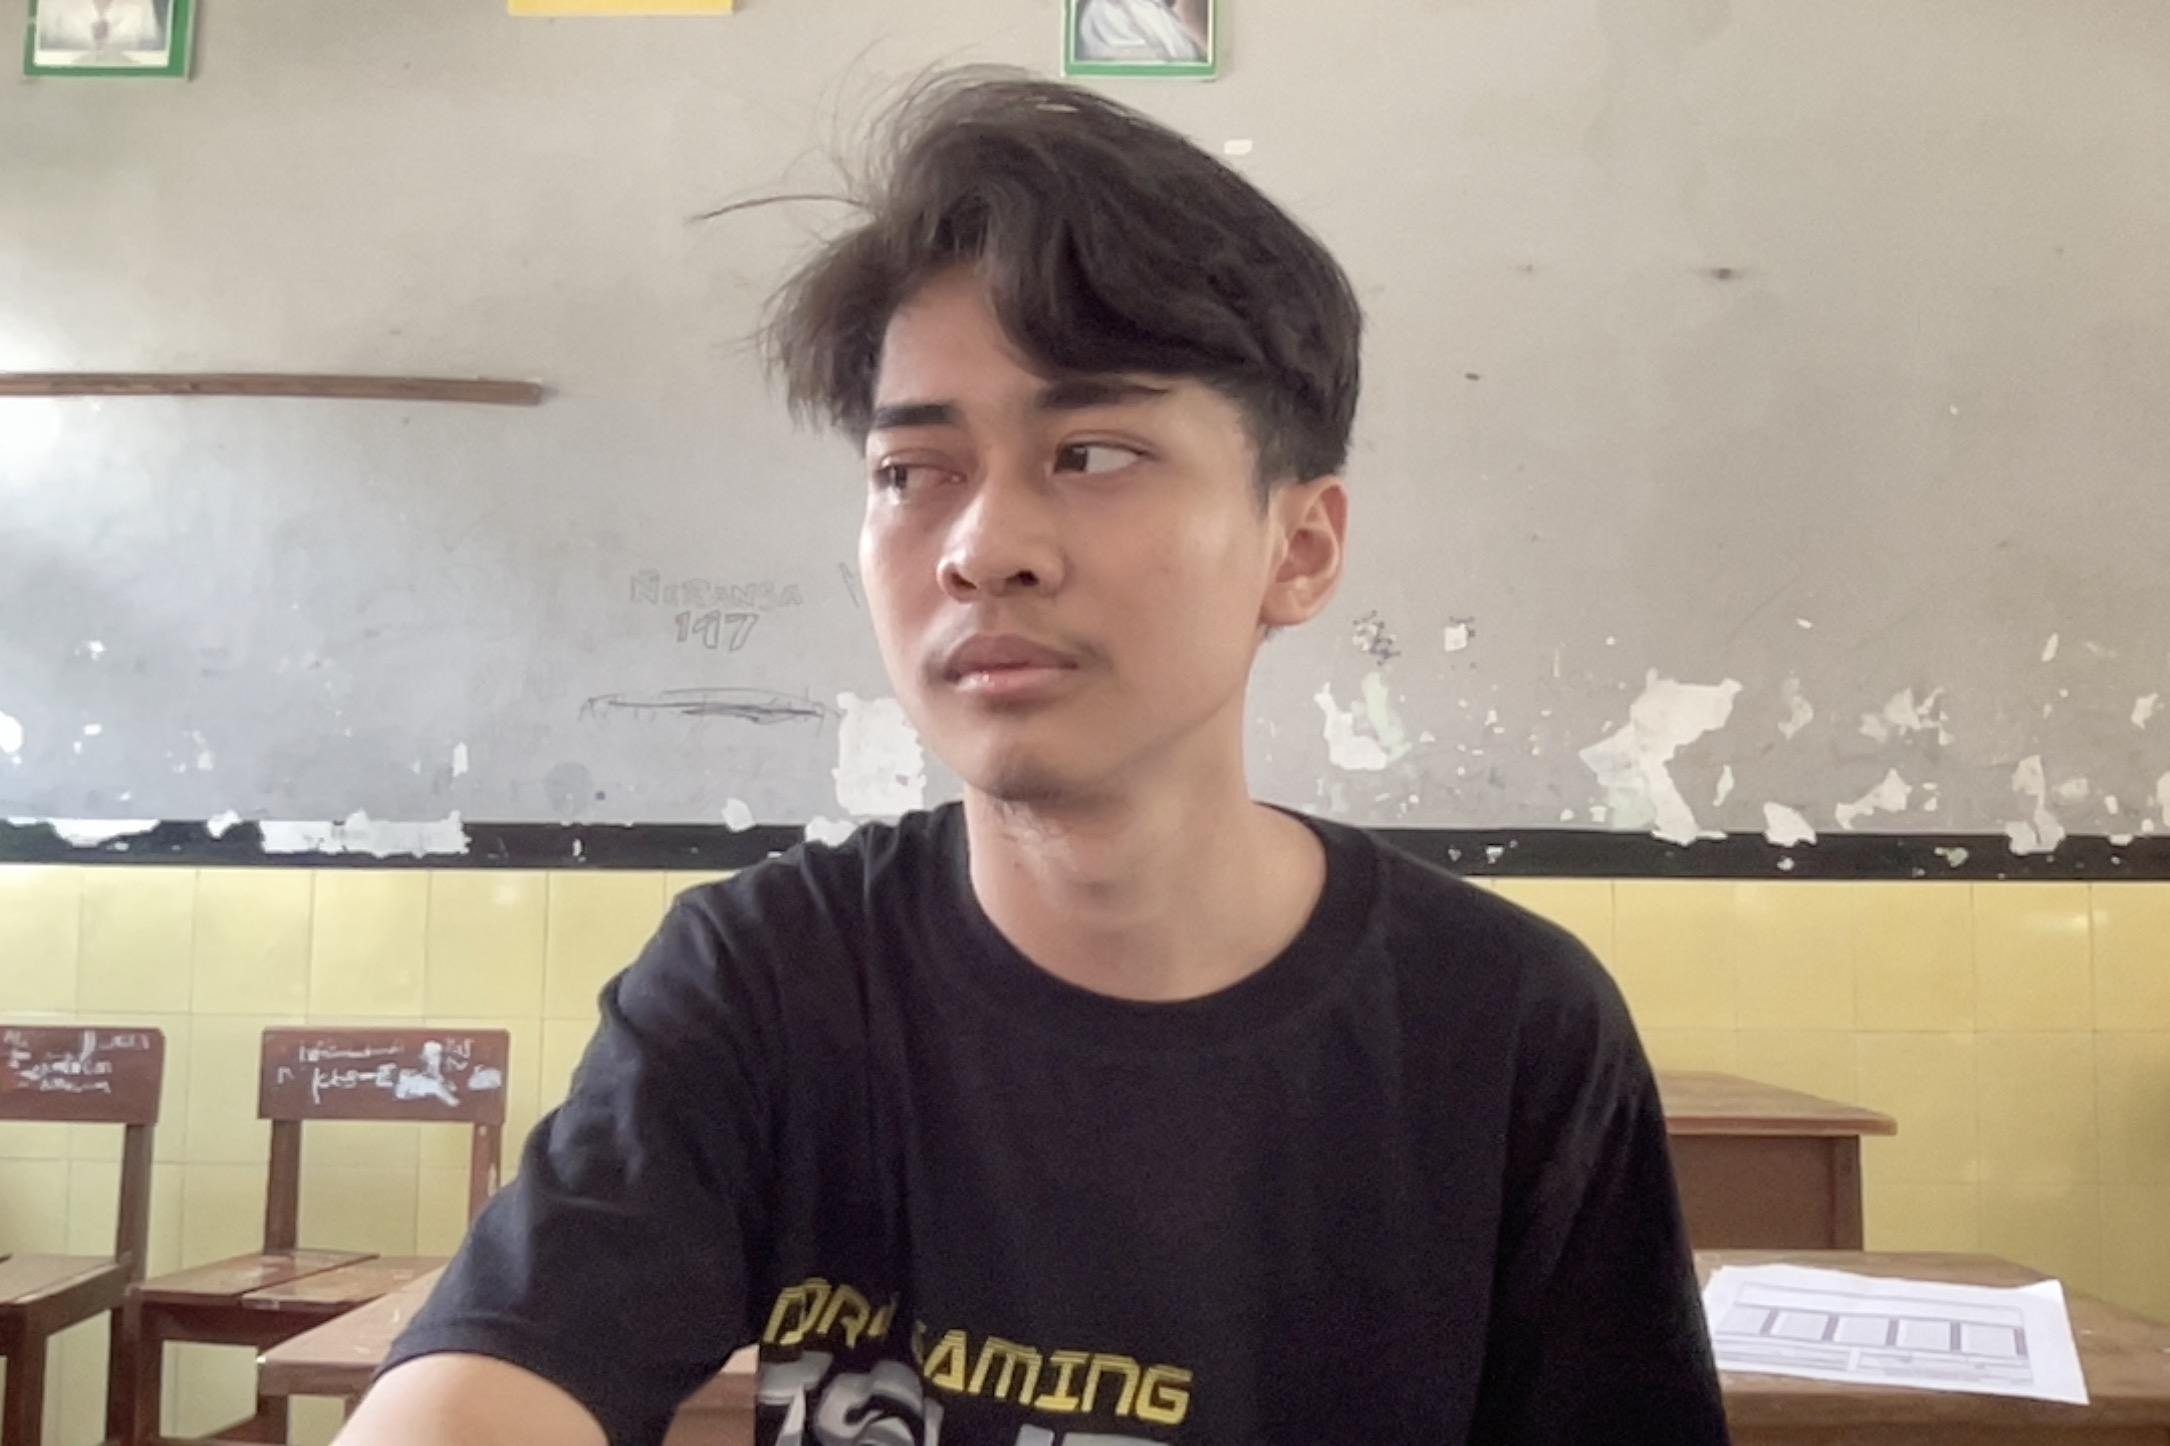cheating: (660, 31, 1479, 1051)
